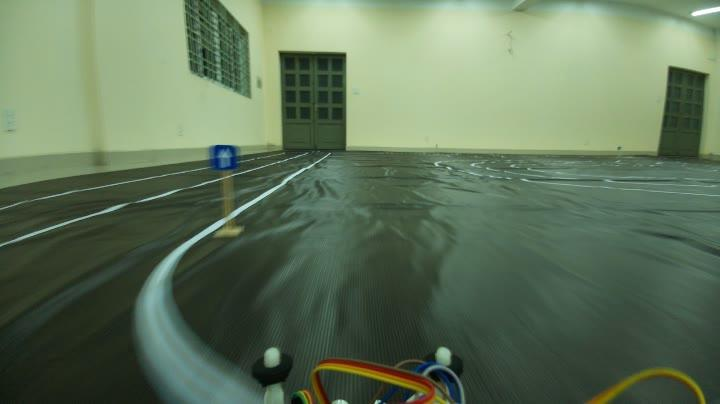onewayroad: (207, 137, 247, 178)
